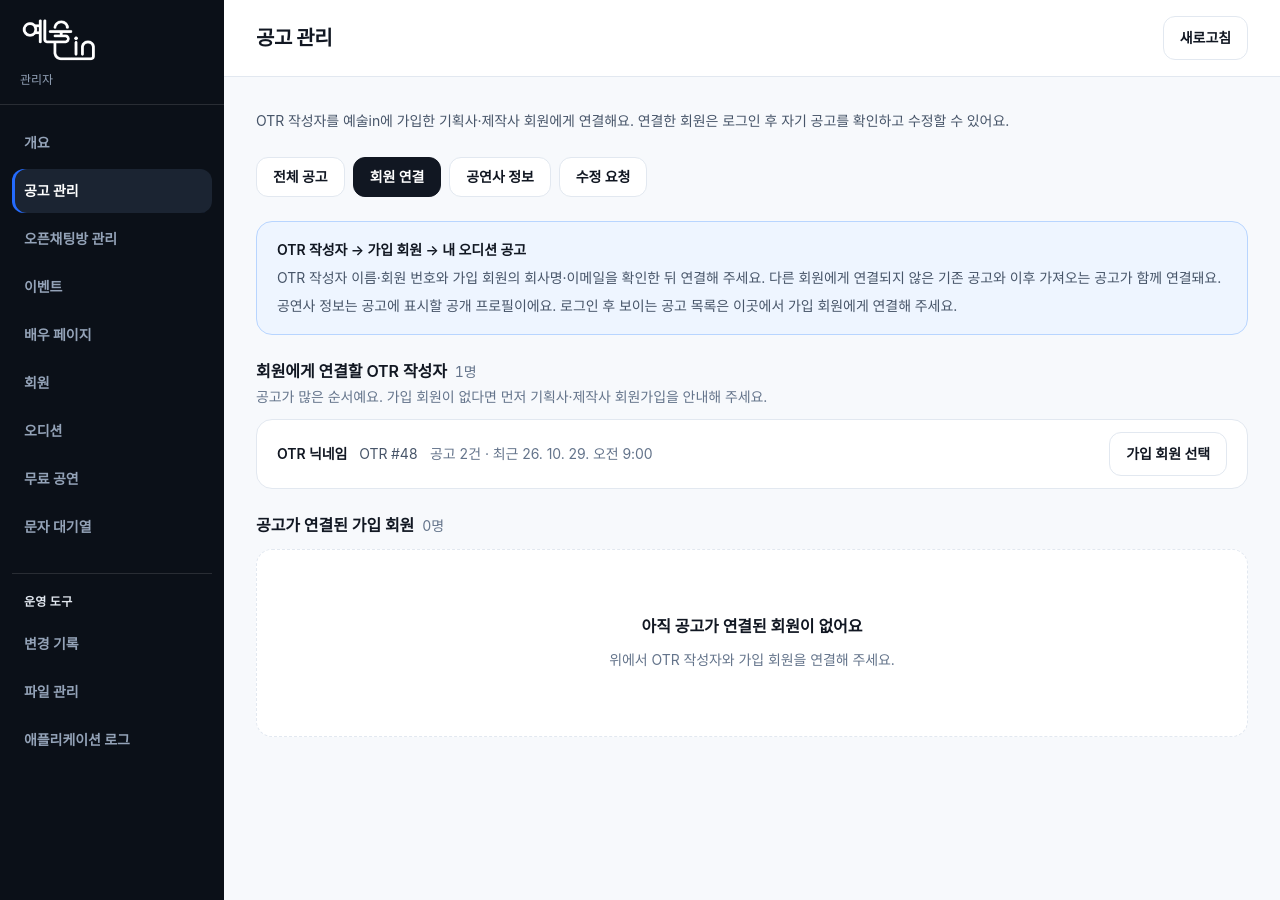
Scenario: OTR 회원 번호와 가입 회원 ID로 연결하고 갱신된 연결 결과를 보여 준다
This screenshot has width=1280, height=900.
Click the button "가입 회원 선택" at (1168, 454), box [1109, 432, 1227, 476]
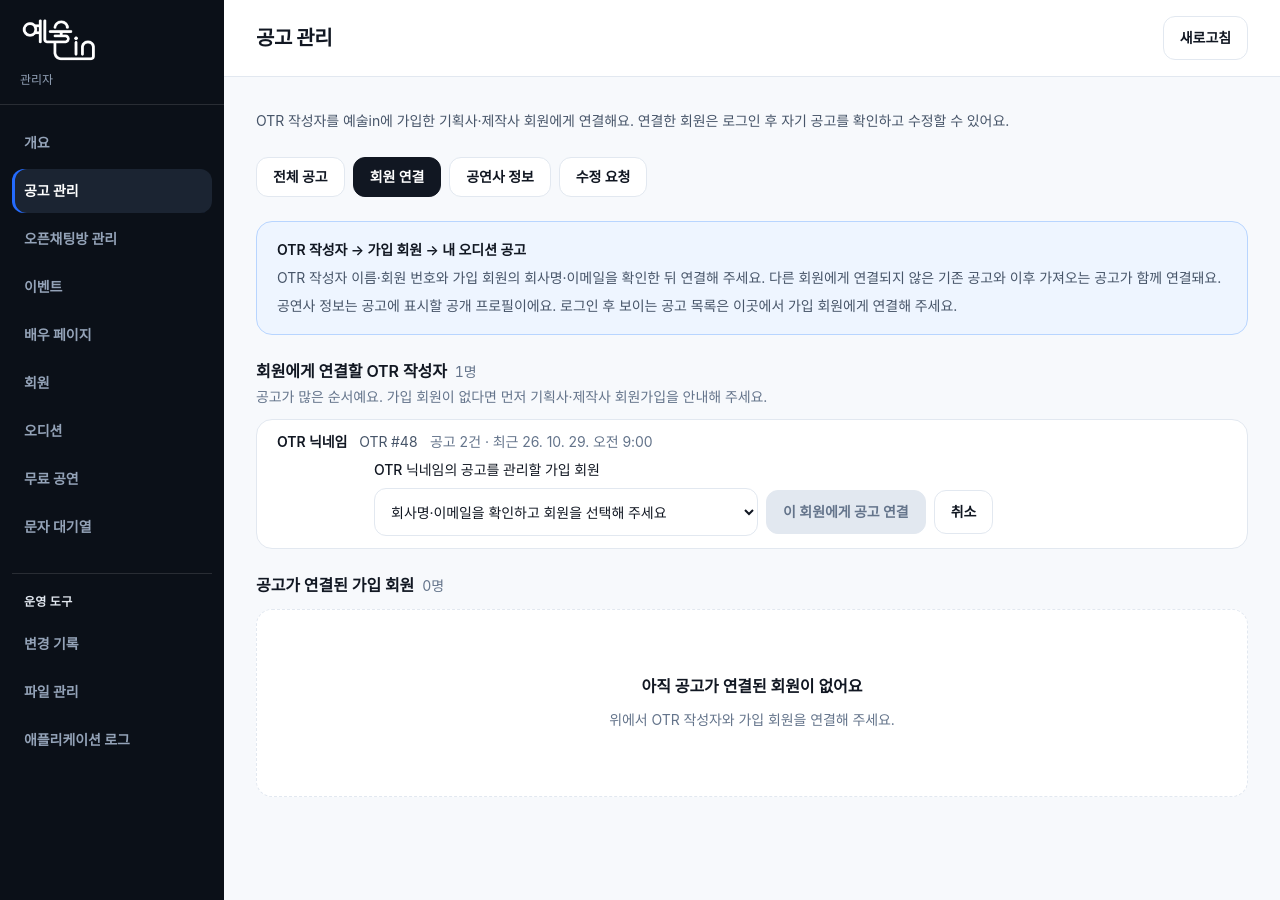
Select "극단 예술 · producer@example.com · 회원 #10" in the dropdown at (566, 512), box [374, 488, 758, 536]
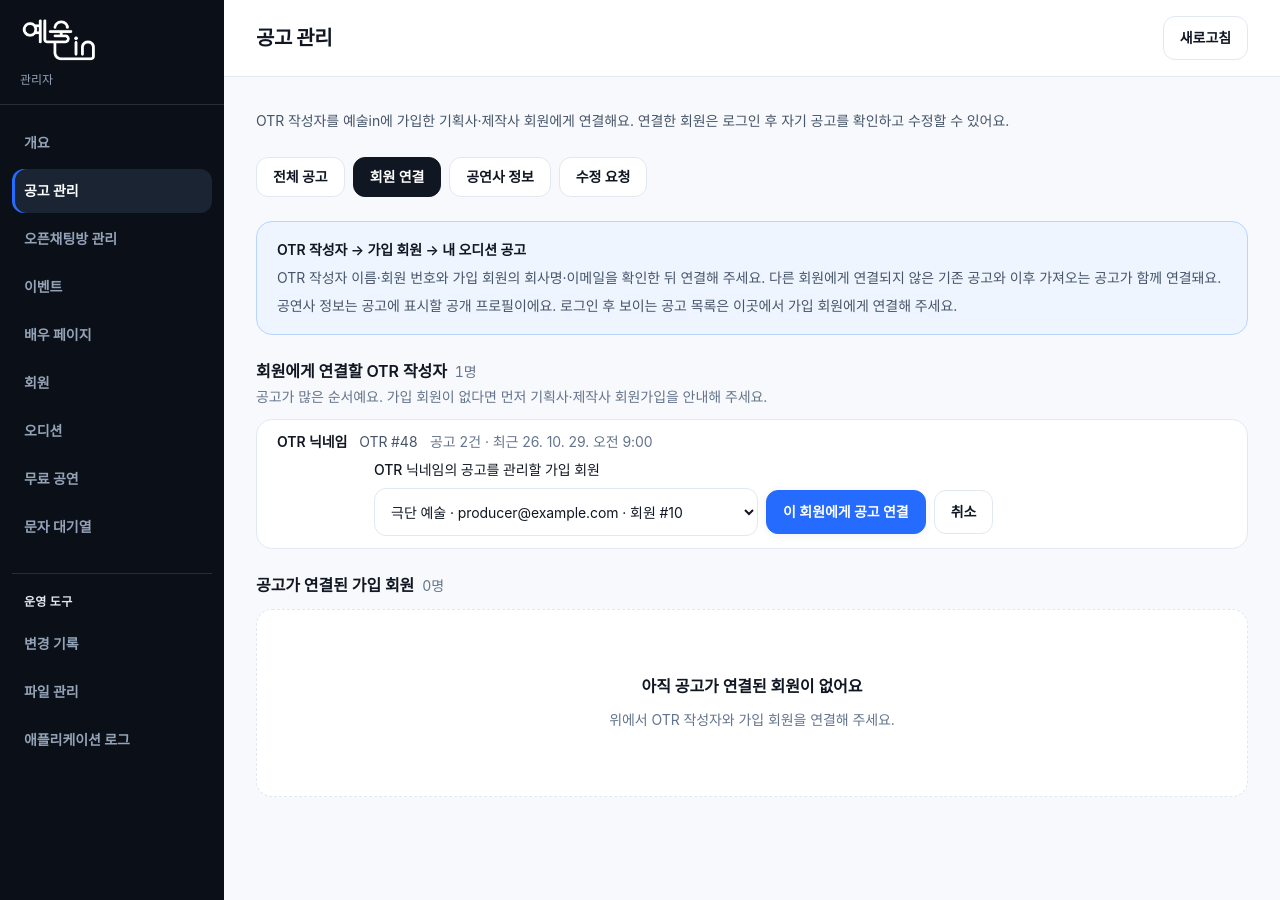
Click the button "이 회원에게 공고 연결" at (846, 512), box [766, 490, 926, 534]
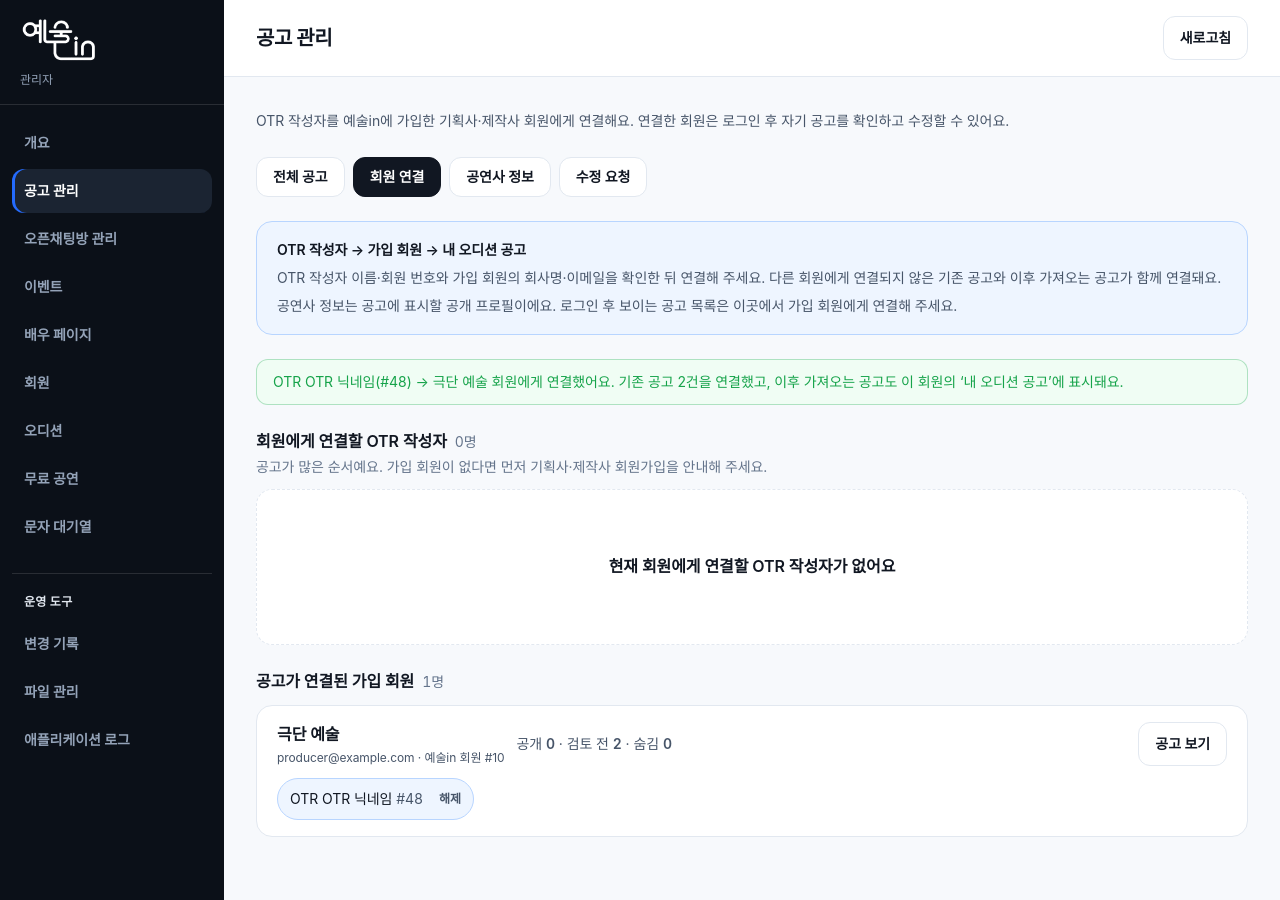
Expected: the message shows "기존 공고 2건", [273, 373, 1124, 390]
Expected: the element that starts with "공고가 연결된 가입 회원" shows "producer@example.com", [277, 750, 424, 765]
Expected: the link to "/admin/posts?owner=10" is shown, [1138, 722, 1227, 766]
